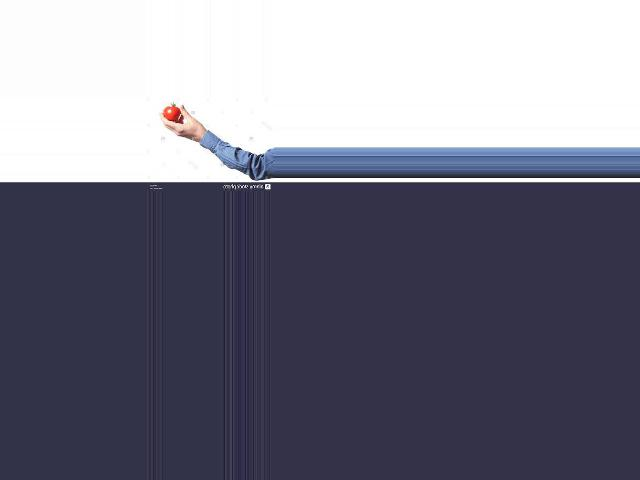tomato: (162, 106, 179, 120)
